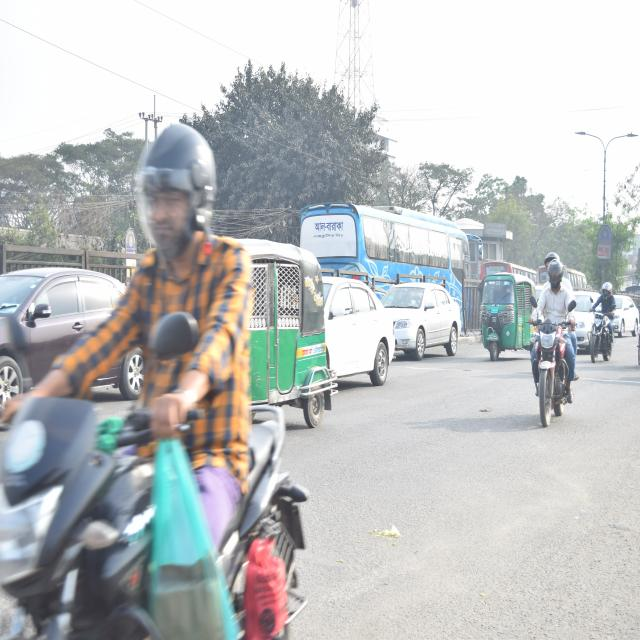car: (0, 249, 143, 423), (313, 274, 394, 391), (388, 273, 464, 354), (570, 288, 600, 355), (613, 285, 640, 339)
motorbike: (0, 353, 307, 640), (519, 282, 574, 433), (586, 294, 612, 368)
